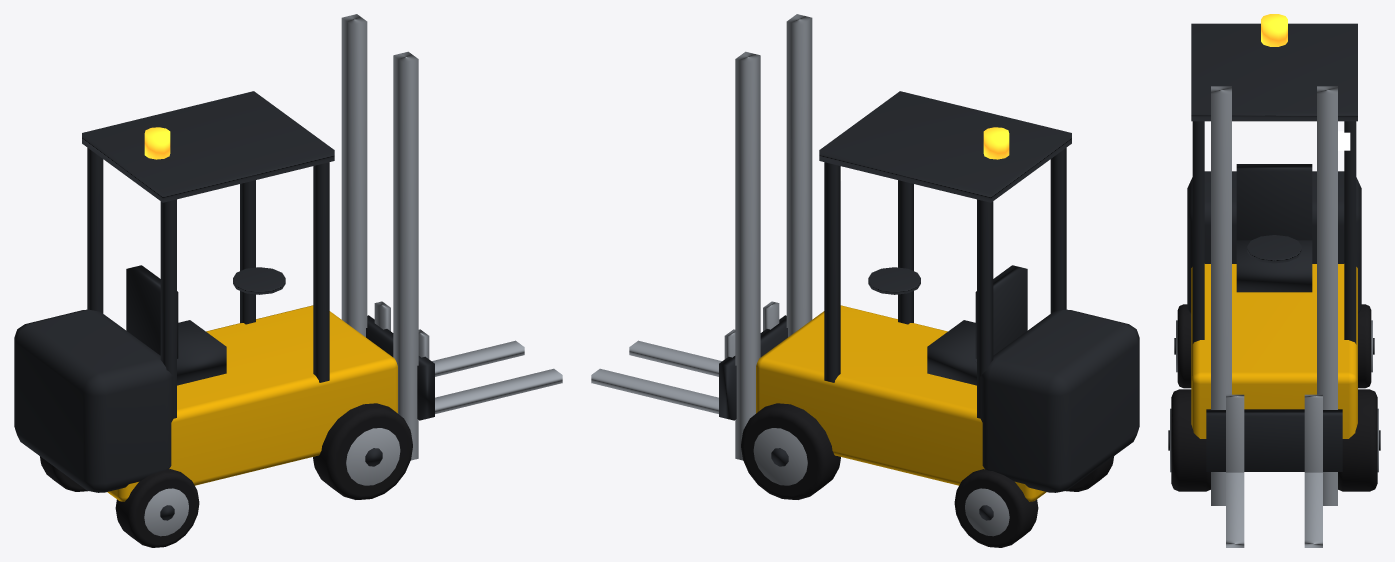
Rendered from forklift.glb.
3 views of the same model, side by side, from view 1: azimuth 30°, elevation 25°; view 2: azimuth 150°, elevation 25°; view 3: azimuth 270°, elevation 25° (orthographic). The views are drawn at different scales.
Visible parts, largest first — view 1: body, wheel_fr, wheel_rr; view 2: body, wheel_fl, wheel_rl; view 3: body, wheel_fr, wheel_fl, wheel_rr, wheel_rl.
Part boxes in pixels (box(x1,y1,x2,y2)): body: box(14, 14, 562, 501); wheel_fr: box(313, 403, 412, 499); wheel_rr: box(115, 469, 199, 547); body: box(591, 14, 1139, 501); wheel_fl: box(741, 403, 840, 499); wheel_rl: box(954, 469, 1038, 547); body: box(1187, 14, 1361, 547); wheel_fr: box(1168, 389, 1210, 491); wheel_fl: box(1338, 389, 1380, 491); wheel_rr: box(1174, 304, 1191, 388); wheel_rl: box(1358, 304, 1374, 388).
Bounding box in the file's own units: 38.5 × 31 × 14.
